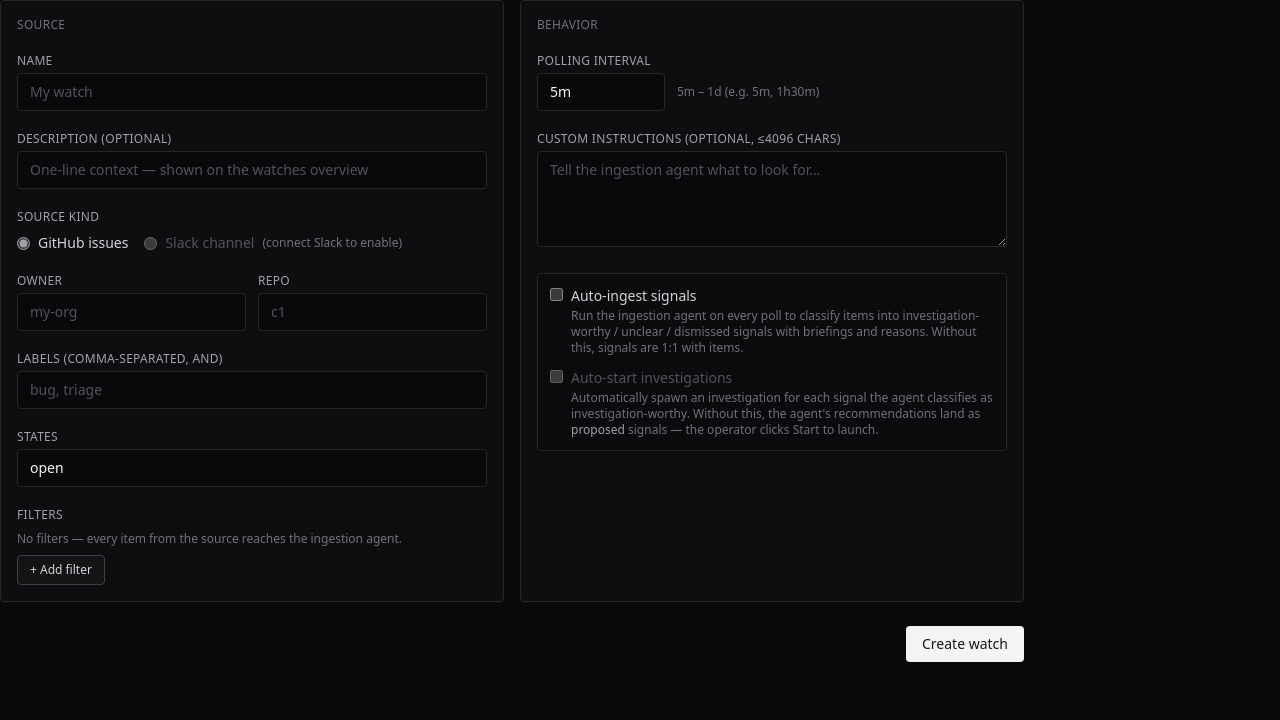
WatchForm › switches to slack fields when kind=slack_channel selected
Click the radio button labelled "Slack channel (connect Slack to enable)".
click(151, 243)  # box x1=144 y1=236 x2=157 y2=250
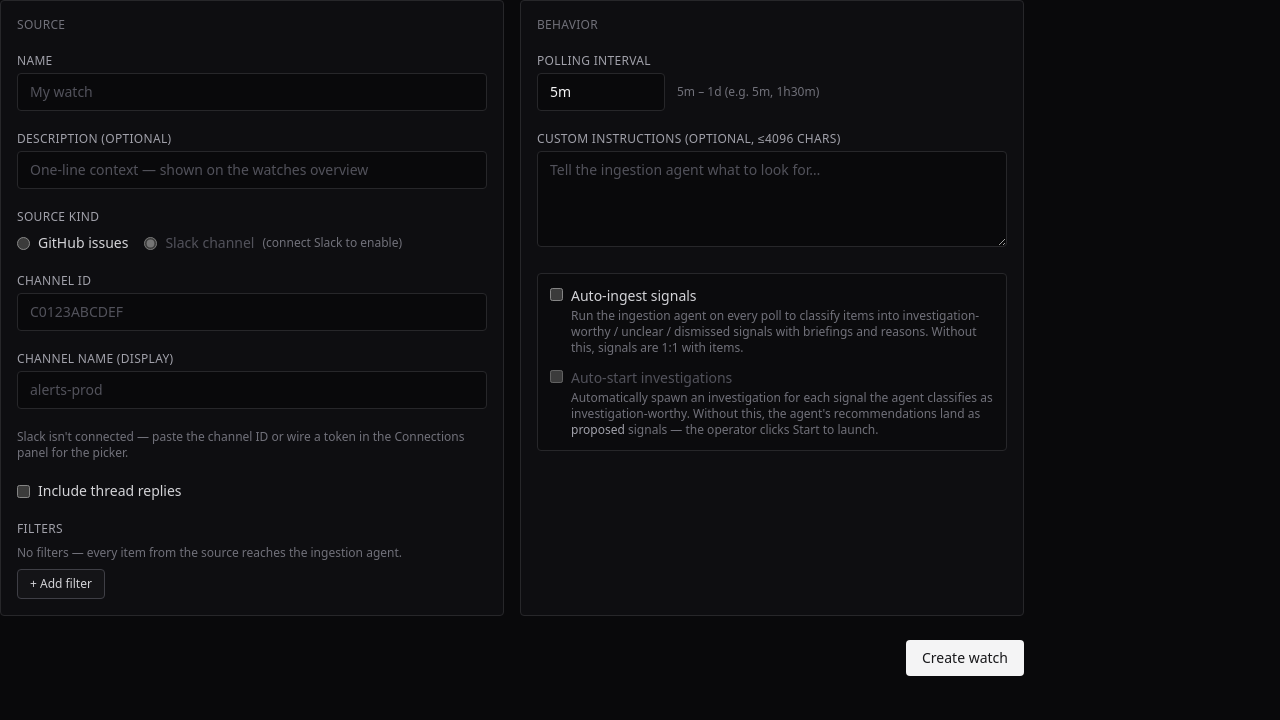
Expected: the field labelled "Channel ID" is shown, x1=17 y1=293 x2=487 y2=331
